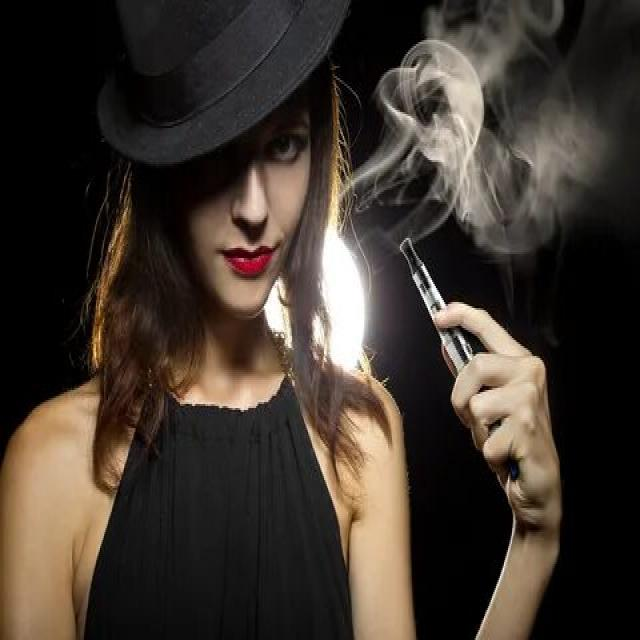cigarette: (395, 224, 500, 424)
